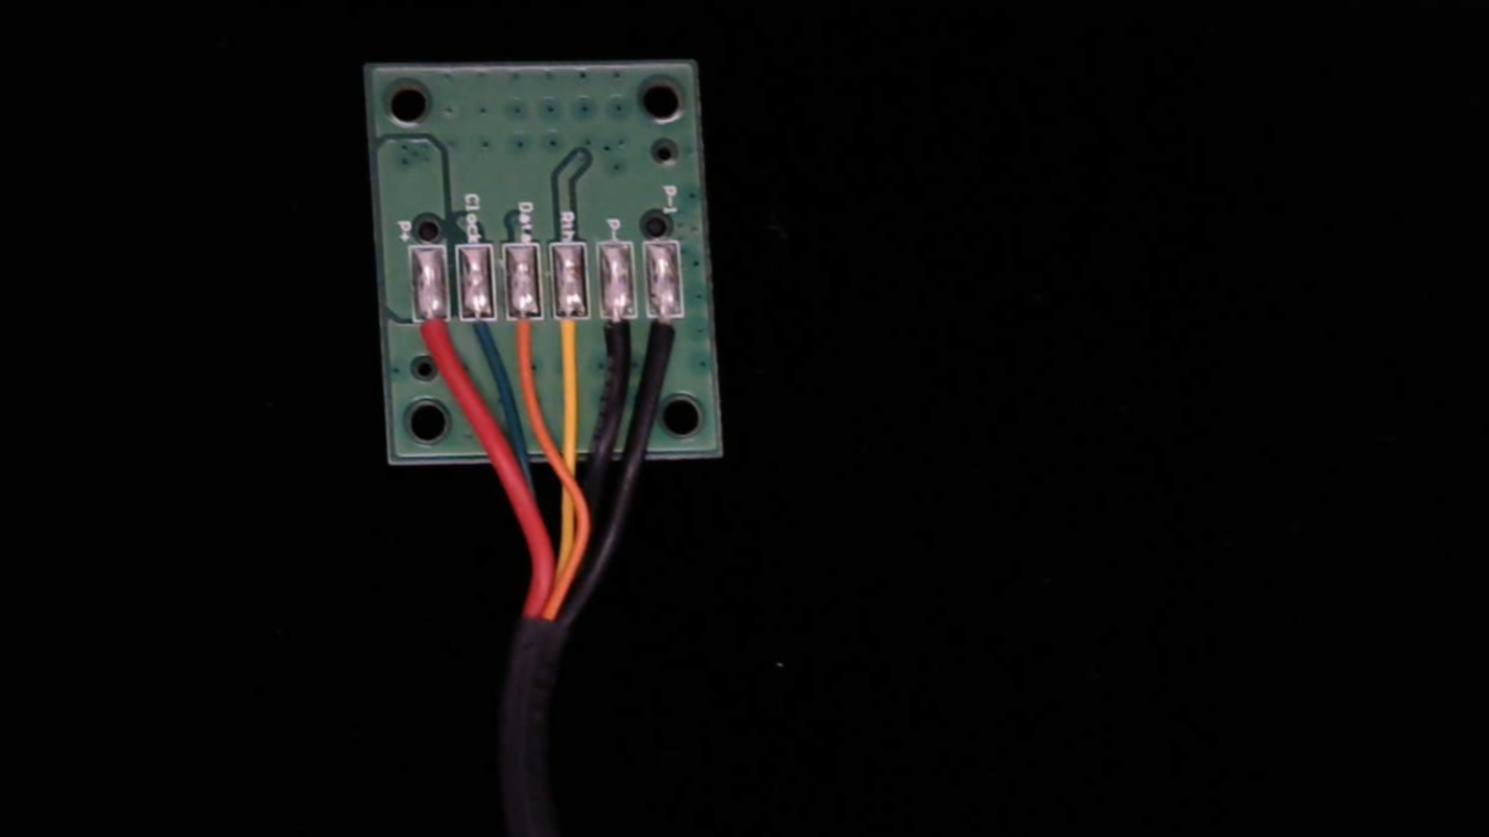Black: (599, 294, 640, 376)
Black1: (647, 298, 688, 379)
Green: (461, 299, 500, 371)
Orange: (507, 295, 544, 370)
Red: (415, 300, 454, 379)
Yellow: (553, 293, 592, 375)
